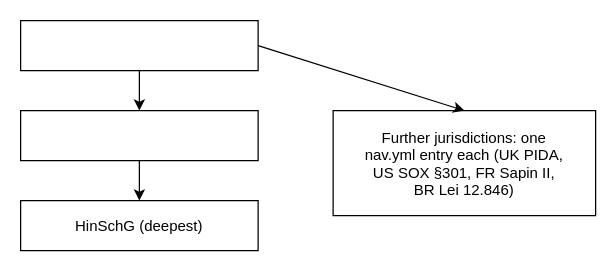
Some shapes in this 616 by 271 pixel diagram are drawn without their labels. Each missing label, with the centre of its shape:
"Core: ISO 37002" goes at (x=138, y=45).
"EU Directive 2019/1937" goes at (x=138, y=135).
